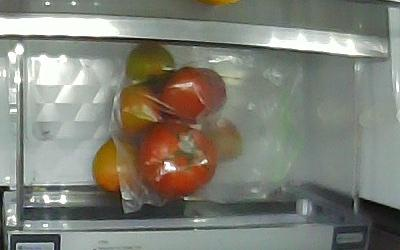tomato_vinyl: (140, 124, 216, 199), (164, 66, 228, 124), (91, 138, 141, 193), (114, 84, 165, 136), (200, 118, 243, 164), (127, 44, 175, 83)
